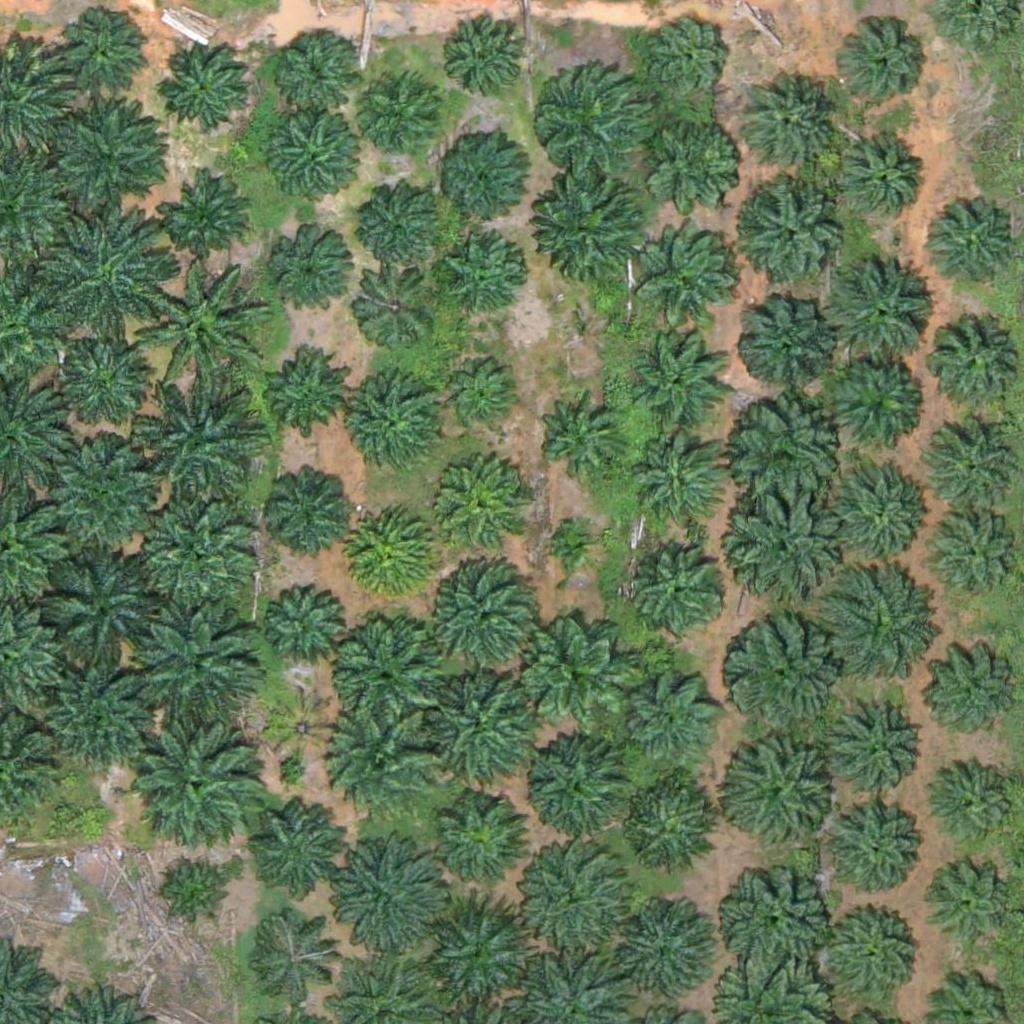Kelapa_Sawit: (38, 213, 163, 339), (38, 439, 163, 565), (35, 546, 160, 672), (36, 655, 161, 781), (130, 610, 255, 736), (138, 722, 263, 848), (138, 382, 263, 508), (135, 266, 260, 392), (317, 698, 442, 824), (423, 554, 548, 680), (420, 670, 545, 796), (515, 610, 640, 736), (532, 60, 657, 186), (318, 834, 443, 960), (42, 92, 167, 217), (133, 485, 258, 610), (826, 565, 939, 678), (724, 492, 837, 605), (330, 612, 442, 726), (820, 253, 932, 366), (737, 181, 849, 294), (730, 400, 842, 513), (916, 197, 1016, 298), (921, 418, 1021, 519), (922, 507, 1022, 608), (831, 459, 931, 560), (823, 351, 923, 452), (739, 73, 839, 174), (726, 616, 826, 717), (432, 792, 532, 893), (525, 737, 625, 838), (620, 675, 720, 776), (631, 540, 731, 641), (631, 436, 731, 537), (626, 330, 726, 431), (641, 227, 741, 328), (544, 178, 644, 279), (524, 853, 624, 954), (727, 869, 827, 970), (735, 293, 835, 393), (243, 796, 343, 896), (348, 378, 448, 478), (645, 105, 745, 205), (732, 738, 832, 838), (235, 912, 335, 1012), (431, 916, 531, 1016), (616, 907, 716, 1007), (825, 902, 925, 1002), (833, 701, 921, 789), (832, 133, 920, 221), (63, 338, 151, 426), (266, 117, 354, 205), (271, 232, 359, 320), (259, 344, 347, 432), (263, 461, 351, 549), (349, 509, 437, 597), (435, 467, 523, 555), (633, 789, 721, 877), (163, 170, 250, 259), (437, 133, 524, 222), (930, 753, 1017, 842), (269, 25, 356, 113), (356, 179, 443, 267), (926, 646, 1013, 734), (842, 22, 929, 110), (60, 15, 147, 103), (158, 41, 245, 129), (262, 580, 349, 668), (351, 260, 438, 348), (359, 71, 446, 159), (445, 14, 532, 102), (442, 241, 529, 329), (646, 18, 733, 106), (836, 809, 923, 897), (536, 391, 623, 479), (152, 857, 227, 933), (447, 357, 522, 432), (929, 865, 1004, 940), (269, 693, 331, 756), (549, 516, 599, 566)
